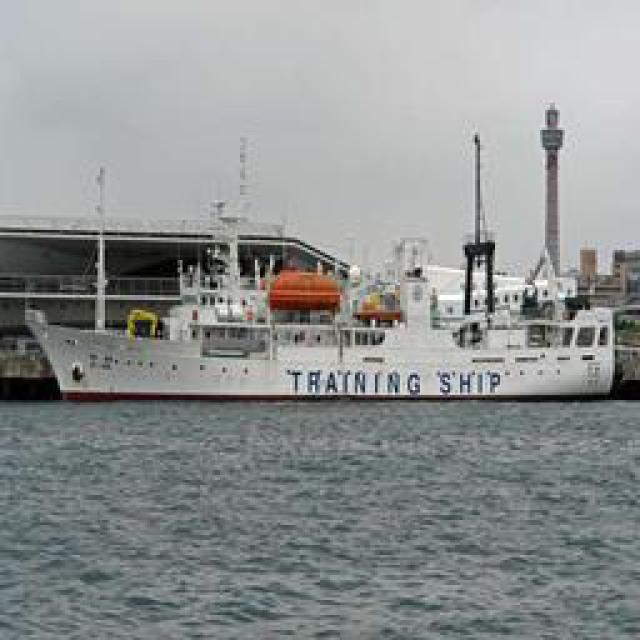Ship: (17, 147, 617, 407)
